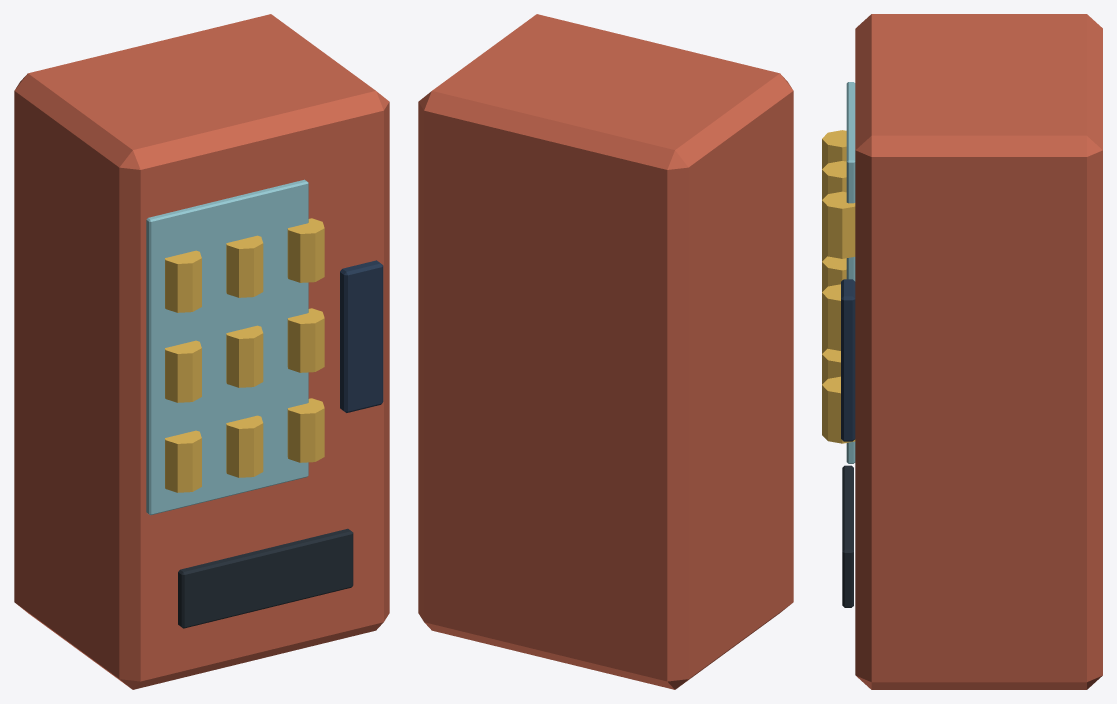
The model's file is Prop_VendingMachine.fbx.
3 views of the same model, side by side, from view 1: azimuth 30°, elevation 25°; view 2: azimuth 150°, elevation 25°; view 3: azimuth 270°, elevation 25° (orthographic). The views are drawn at different scales.
Visible parts, largest first — view 1: Body.009, Glass, PickupSlot, SelectionPanel, Drink.005, Drink.002, Drink.008, Drink.007, Drink.001, Drink.004, Drink, Drink.006 (+1 smaller); view 2: Body.009; view 3: Body.009, SelectionPanel, Drink.008, PickupSlot, Glass, Drink.002, Drink.005, Drink.006, Drink.007, Drink.004, Drink.001.
Part boxes in pixels (left/top/right/bottom): Body.009: left=14, top=14, right=389, bottom=689; Glass: left=146, top=179, right=308, bottom=515; PickupSlot: left=178, top=528, right=353, bottom=628; SelectionPanel: left=340, top=260, right=383, bottom=412; Drink.005: left=287, top=308, right=324, bottom=372; Drink.002: left=287, top=398, right=324, bottom=462; Drink.008: left=287, top=218, right=324, bottom=282; Drink.007: left=226, top=235, right=263, bottom=297; Drink.001: left=226, top=415, right=263, bottom=477; Drink.004: left=226, top=325, right=263, bottom=387; Drink: left=165, top=430, right=201, bottom=492; Drink.006: left=165, top=250, right=201, bottom=312; Body.009: left=418, top=14, right=793, bottom=689; Body.009: left=855, top=14, right=1102, bottom=689; SelectionPanel: left=841, top=279, right=855, bottom=441; Drink.008: left=822, top=191, right=855, bottom=258; PickupSlot: left=842, top=465, right=853, bottom=607; Glass: left=846, top=82, right=855, bottom=463; Drink.002: left=822, top=376, right=855, bottom=443; Drink.005: left=822, top=284, right=840, bottom=350; Drink.006: left=822, top=130, right=846, bottom=168; Drink.007: left=822, top=161, right=846, bottom=199; Drink.004: left=822, top=256, right=846, bottom=291; Drink.001: left=822, top=348, right=840, bottom=384.
Size of the model in its own units: 1.1 by 2.1 by 0.965.
